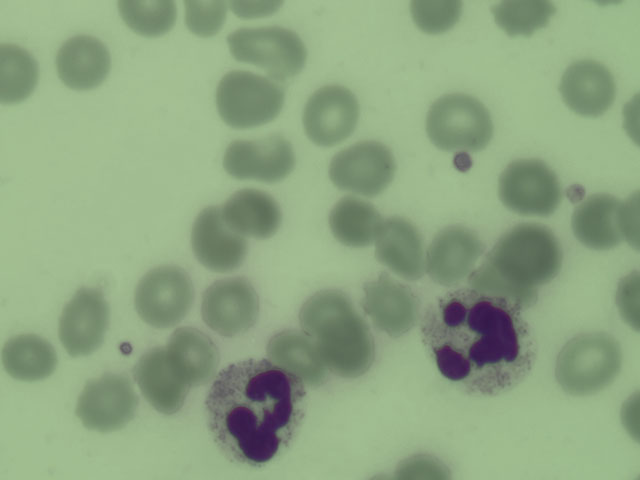Platelets: (449, 149, 476, 177), (563, 179, 589, 206), (114, 337, 137, 359)
RBC: (333, 139, 391, 196), (291, 283, 349, 340), (428, 228, 486, 285), (499, 227, 557, 284), (557, 336, 615, 393), (578, 194, 636, 251), (499, 158, 557, 215), (430, 89, 488, 146), (555, 60, 613, 117), (218, 71, 276, 128), (190, 209, 248, 266), (202, 277, 260, 334), (134, 265, 192, 322), (78, 373, 136, 430), (55, 292, 113, 349), (56, 36, 114, 93), (301, 83, 359, 140), (360, 276, 418, 333), (372, 221, 430, 278), (324, 195, 382, 252), (1, 331, 58, 388), (221, 136, 293, 181), (225, 185, 282, 240), (229, 23, 297, 67), (319, 323, 374, 377), (491, 1, 560, 41), (165, 325, 215, 378), (1, 39, 38, 105), (142, 362, 187, 414), (406, 1, 465, 38), (117, 1, 176, 37), (394, 446, 452, 480), (180, 1, 228, 38), (615, 268, 640, 339)
WBC: (429, 289, 528, 397), (211, 364, 303, 467)
